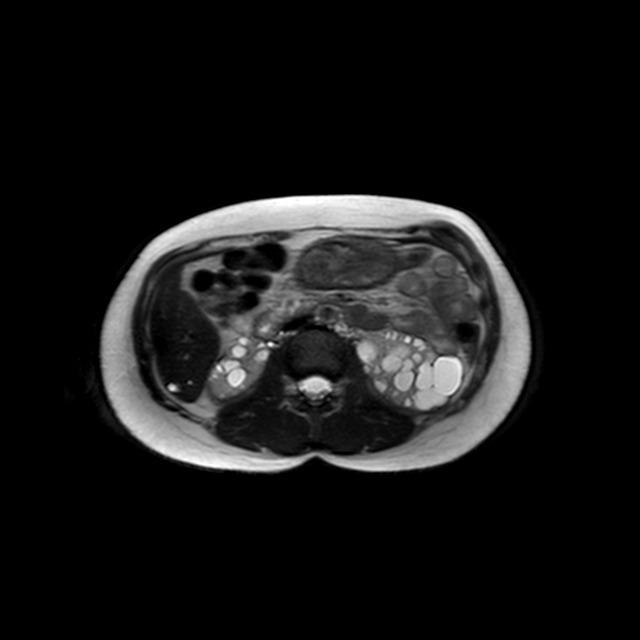sag: (206, 331, 282, 404)
sol: (348, 327, 466, 411)
